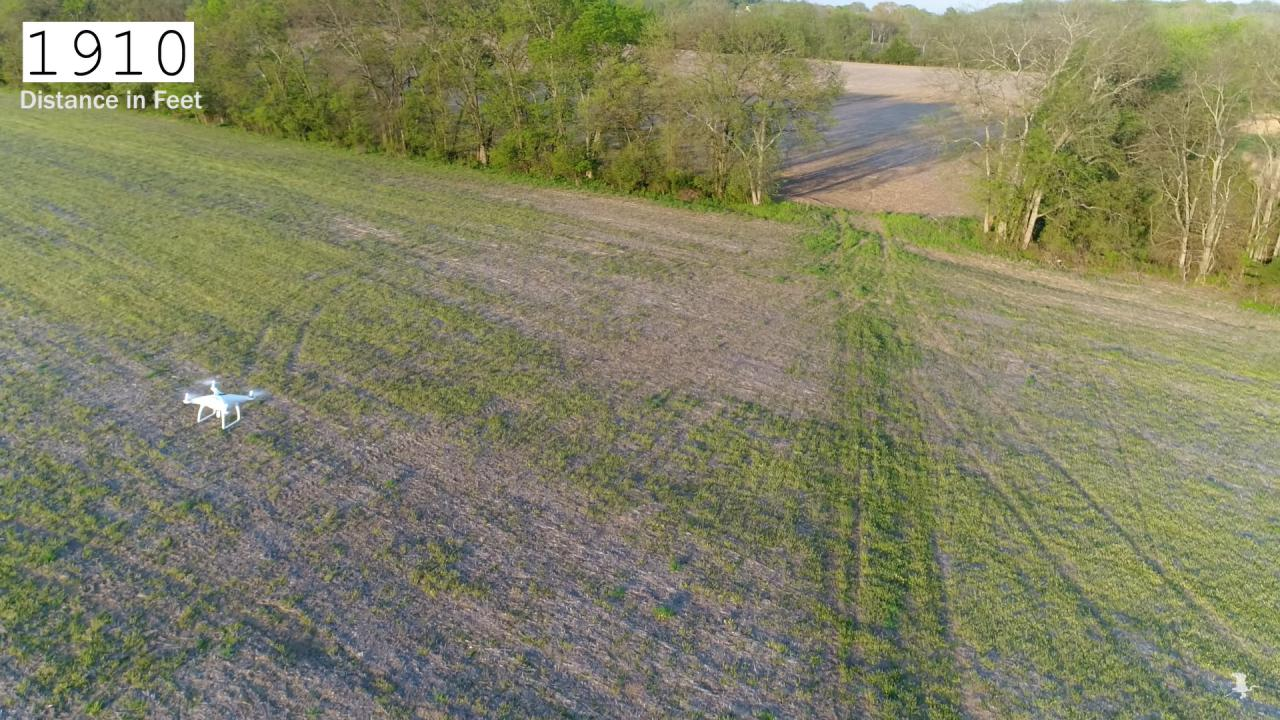Drone: (172, 368, 277, 434)
